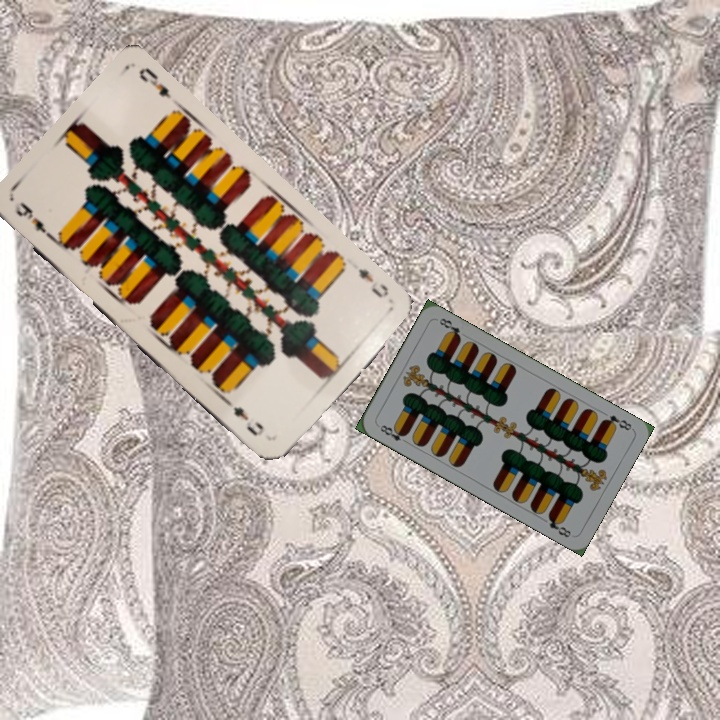E8: (374, 421, 411, 446), (598, 411, 634, 433)
E9: (10, 197, 58, 244), (354, 264, 392, 301)
